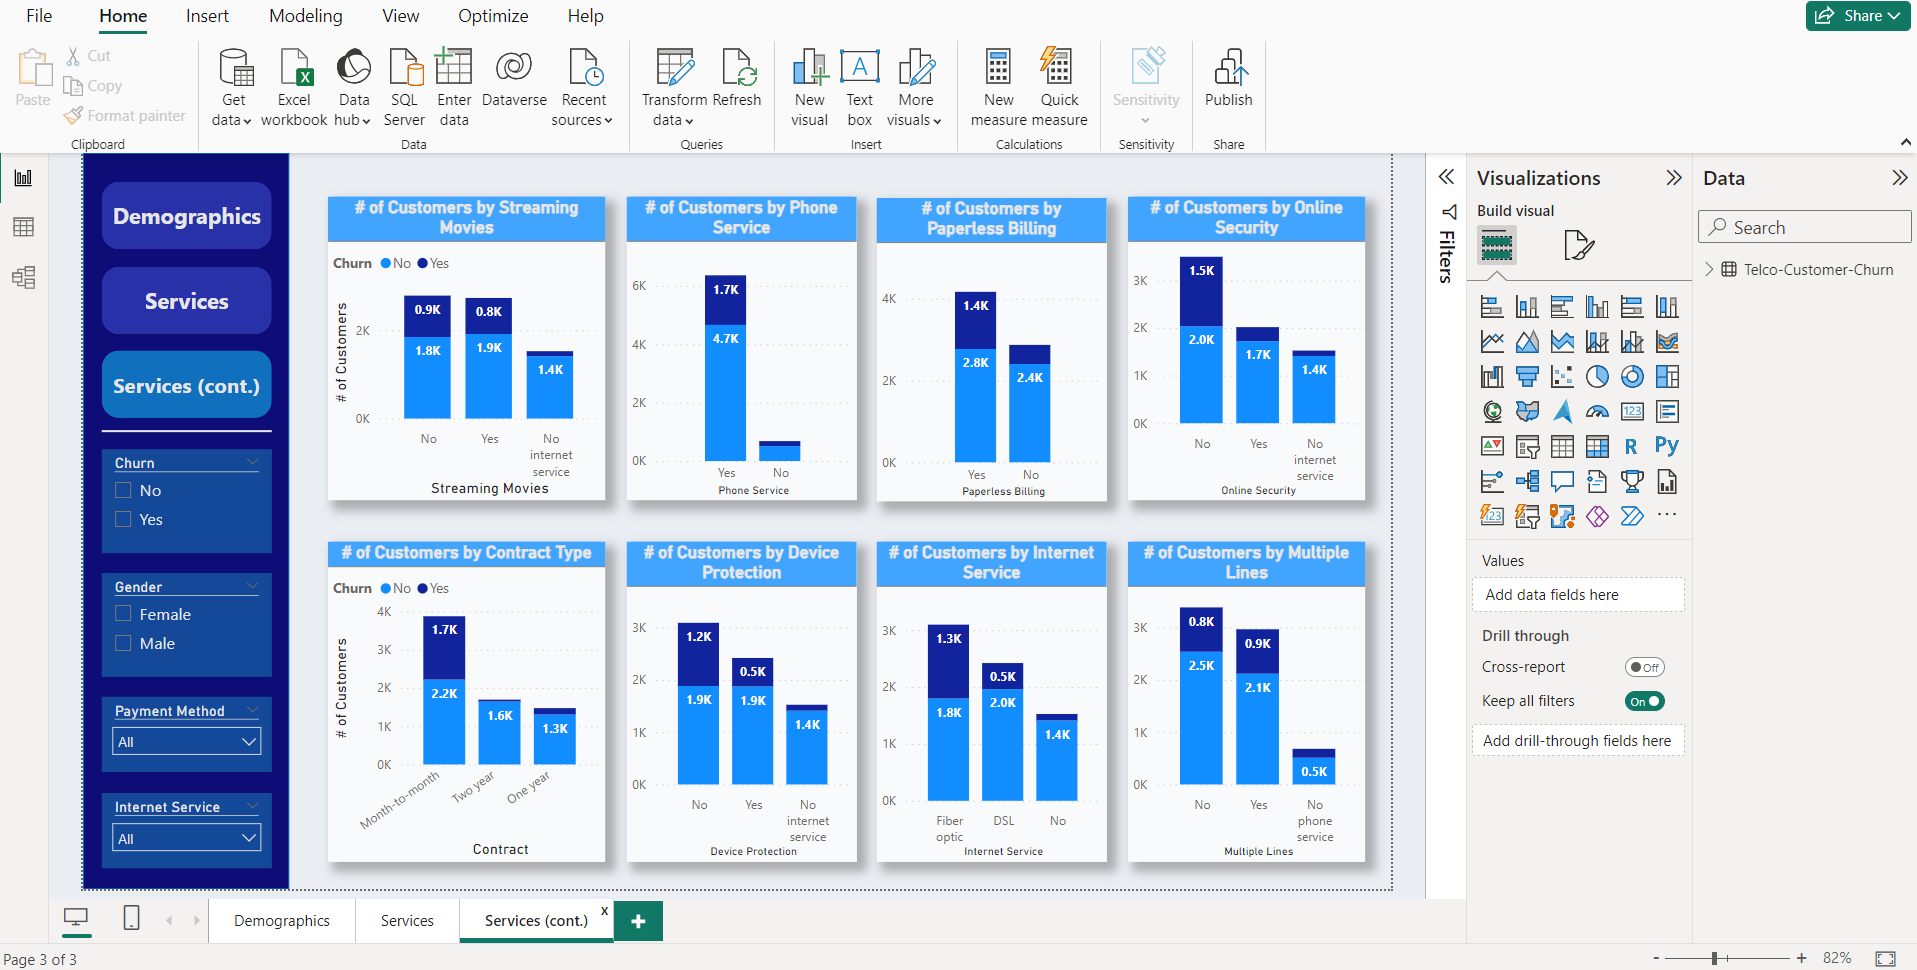

The dashboard page shown, as its layout file describes it:
{"tool":"powerbi","page":{"name":"Services (cont.)","canvas":[1280,720],"ordinal":2},"visuals":[{"type":"columnChart","title":"# of Customers by Contract Type","fields":{"Series":["Telco-Customer-Churn.Churn"],"Category":["Telco-Customer-Churn.Contract"],"Y":["CountNonNull(Telco-Customer-Churn.customerID)"]},"box":[239.6,380.2,271.4,312.9],"z":0},{"type":"shape","box":[0,0,201.7,720],"z":1000},{"type":"slicer","fields":{"Values":["Telco-Customer-Churn.Churn"]},"box":[18.3,289.5,166.2,101.5],"z":2000},{"type":"slicer","fields":{"Values":["Telco-Customer-Churn.gender"]},"box":[18.3,410.5,166.2,101.5],"z":3000},{"type":"slicer","fields":{"Values":["Telco-Customer-Churn.PaymentMethod"]},"box":[18.3,531.5,166.2,73.3],"z":4000},{"type":"slicer","fields":{"Values":["Telco-Customer-Churn.InternetService"]},"box":[18.3,625.6,166.2,73.3],"z":5000},{"type":"columnChart","title":"# of Customers by Device Protection","fields":{"Series":["Telco-Customer-Churn.Churn"],"Category":["Telco-Customer-Churn.DeviceProtection"],"Y":["CountNonNull(Telco-Customer-Churn.customerID)"]},"box":[531.7,380.2,224.9,312.9],"z":6000},{"type":"columnChart","title":"# of Customers by Internet Service","fields":{"Series":["Telco-Customer-Churn.Churn"],"Category":["Telco-Customer-Churn.InternetService"],"Y":["CountNonNull(Telco-Customer-Churn.customerID)"]},"box":[776.2,380.2,224.9,312.9],"z":7000},{"type":"columnChart","title":"# of Customers by Multiple Lines","fields":{"Series":["Telco-Customer-Churn.Churn"],"Category":["Telco-Customer-Churn.MultipleLines"],"Y":["CountNonNull(Telco-Customer-Churn.customerID)"]},"box":[1021.9,380.2,232.3,312.9],"z":8000},{"type":"columnChart","title":"# of Customers by Online Security","fields":{"Series":["Telco-Customer-Churn.Churn"],"Category":["Telco-Customer-Churn.OnlineSecurity"],"Y":["CountNonNull(Telco-Customer-Churn.customerID)"]},"box":[1021.9,42.8,232.3,297],"z":9000},{"type":"columnChart","title":"# of Customers by Paperless Billing","fields":{"Series":["Telco-Customer-Churn.Churn"],"Category":["Telco-Customer-Churn.PaperlessBilling"],"Y":["CountNonNull(Telco-Customer-Churn.customerID)"]},"box":[776.2,44,224.9,297],"z":10000},{"type":"shape","box":[18.3,264,166.2,15.9],"z":11000},{"type":"columnChart","title":"# of Customers by Phone Service","fields":{"Series":["Telco-Customer-Churn.Churn"],"Category":["Telco-Customer-Churn.PhoneService"],"Y":["CountNonNull(Telco-Customer-Churn.customerID)"]},"box":[531.7,42.8,224.9,297],"z":12000},{"type":"columnChart","title":"# of Customers by Streaming Movies","fields":{"Series":["Telco-Customer-Churn.Churn"],"Category":["Telco-Customer-Churn.StreamingMovies"],"Y":["CountNonNull(Telco-Customer-Churn.customerID)"]},"box":[239.6,42.8,271.4,297],"z":13000},{"type":"actionButton","box":[18.3,28.1,166.2,66],"z":14000},{"type":"actionButton","box":[18.3,111.2,166.2,66],"z":15000},{"type":"actionButton","box":[18.3,193.1,166.2,66],"z":16000}]}

Visuals, with their boxes on the page's 1280x720 design canvas (x1, y1, x2, y2). These are canvas units, not pixel positions in the 1917x970 screenshot, which may show the page scaled, cropped or inside an application window:
"# of Customers by Contract Type" columnChart: {"x1": 240, "y1": 380, "x2": 511, "y2": 693}
shape: {"x1": 0, "y1": 0, "x2": 202, "y2": 720}
slicer - Telco-Customer-Churn.Churn: {"x1": 18, "y1": 290, "x2": 184, "y2": 391}
slicer - Telco-Customer-Churn.gender: {"x1": 18, "y1": 410, "x2": 184, "y2": 512}
slicer - Telco-Customer-Churn.PaymentMethod: {"x1": 18, "y1": 532, "x2": 184, "y2": 605}
slicer - Telco-Customer-Churn.InternetService: {"x1": 18, "y1": 626, "x2": 184, "y2": 699}
"# of Customers by Device Protection" columnChart: {"x1": 532, "y1": 380, "x2": 757, "y2": 693}
"# of Customers by Internet Service" columnChart: {"x1": 776, "y1": 380, "x2": 1001, "y2": 693}
"# of Customers by Multiple Lines" columnChart: {"x1": 1022, "y1": 380, "x2": 1254, "y2": 693}
"# of Customers by Online Security" columnChart: {"x1": 1022, "y1": 43, "x2": 1254, "y2": 340}
"# of Customers by Paperless Billing" columnChart: {"x1": 776, "y1": 44, "x2": 1001, "y2": 341}
shape: {"x1": 18, "y1": 264, "x2": 184, "y2": 280}
"# of Customers by Phone Service" columnChart: {"x1": 532, "y1": 43, "x2": 757, "y2": 340}
"# of Customers by Streaming Movies" columnChart: {"x1": 240, "y1": 43, "x2": 511, "y2": 340}
actionButton: {"x1": 18, "y1": 28, "x2": 184, "y2": 94}
actionButton: {"x1": 18, "y1": 111, "x2": 184, "y2": 177}
actionButton: {"x1": 18, "y1": 193, "x2": 184, "y2": 259}
